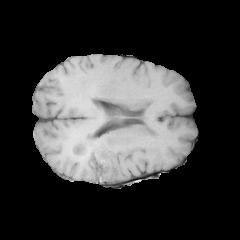glioma: (64, 98, 159, 182)
